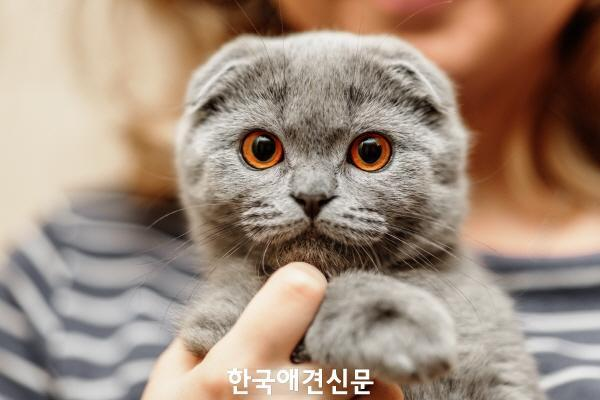cats: (171, 21, 512, 367)
